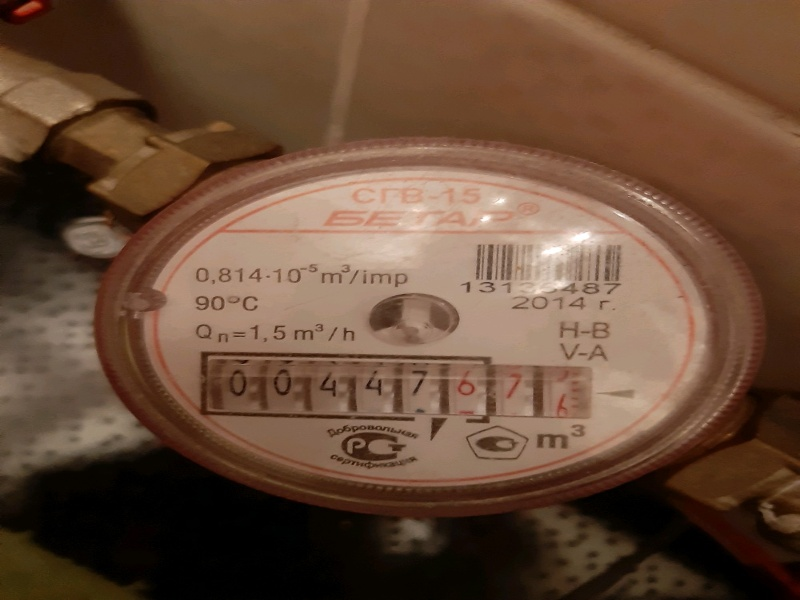meter: (208, 353, 599, 417)
